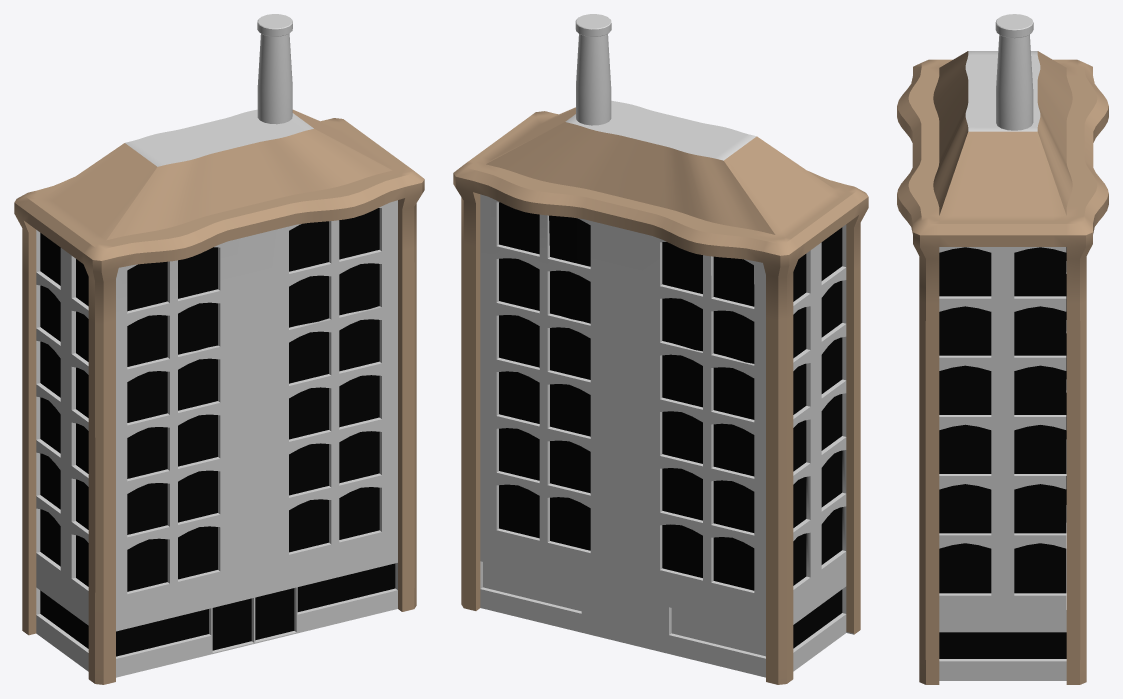
Rendered from PredioPassado(semUV).fbx.
3 views of the same model, side by side, from view 1: azimuth 30°, elevation 25°; view 2: azimuth 150°, elevation 25°; view 3: azimuth 270°, elevation 25° (orthographic). The views are drawn at different scales.
Visible parts, largest first — view 1: PredioPassado; view 2: PredioPassado; view 3: PredioPassado.
Part boxes in pixels (left/top/right/bottom): PredioPassado: left=14, top=14, right=424, bottom=684; PredioPassado: left=453, top=14, right=868, bottom=684; PredioPassado: left=897, top=14, right=1108, bottom=684.
Bounding box in the file's own units: 2179 × 3627 × 1138.
